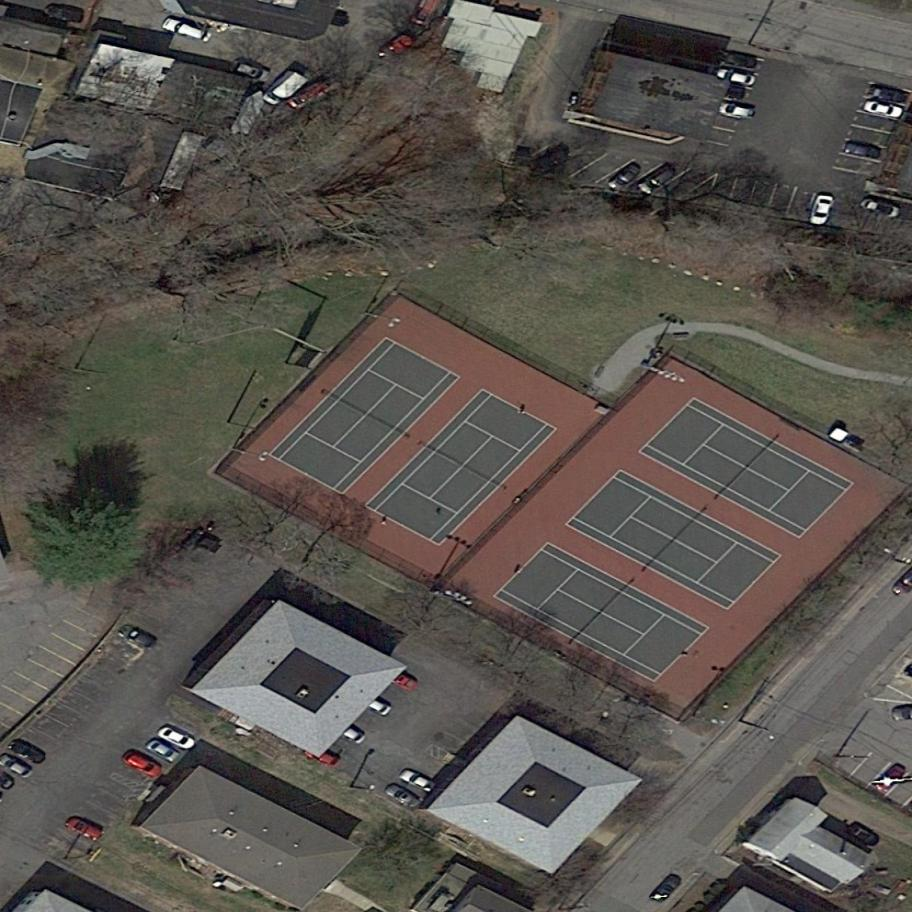small-vehicle: (259, 63, 310, 115), (523, 142, 571, 183), (152, 719, 198, 758), (635, 160, 681, 199), (121, 747, 167, 785), (5, 733, 52, 770), (158, 15, 214, 46), (286, 78, 334, 113), (113, 619, 160, 654), (605, 157, 646, 197), (646, 867, 685, 909), (871, 757, 910, 797), (376, 28, 418, 64), (710, 63, 762, 92), (841, 817, 885, 850), (856, 193, 905, 222), (142, 733, 182, 768), (383, 779, 422, 812), (64, 812, 105, 843), (859, 96, 905, 123), (227, 57, 274, 83), (864, 81, 911, 107), (301, 741, 342, 770), (806, 191, 837, 229), (839, 139, 886, 164), (718, 50, 766, 73), (398, 767, 437, 795), (718, 100, 759, 124), (0, 752, 32, 779), (334, 722, 367, 746), (386, 669, 419, 691), (362, 695, 392, 718)
